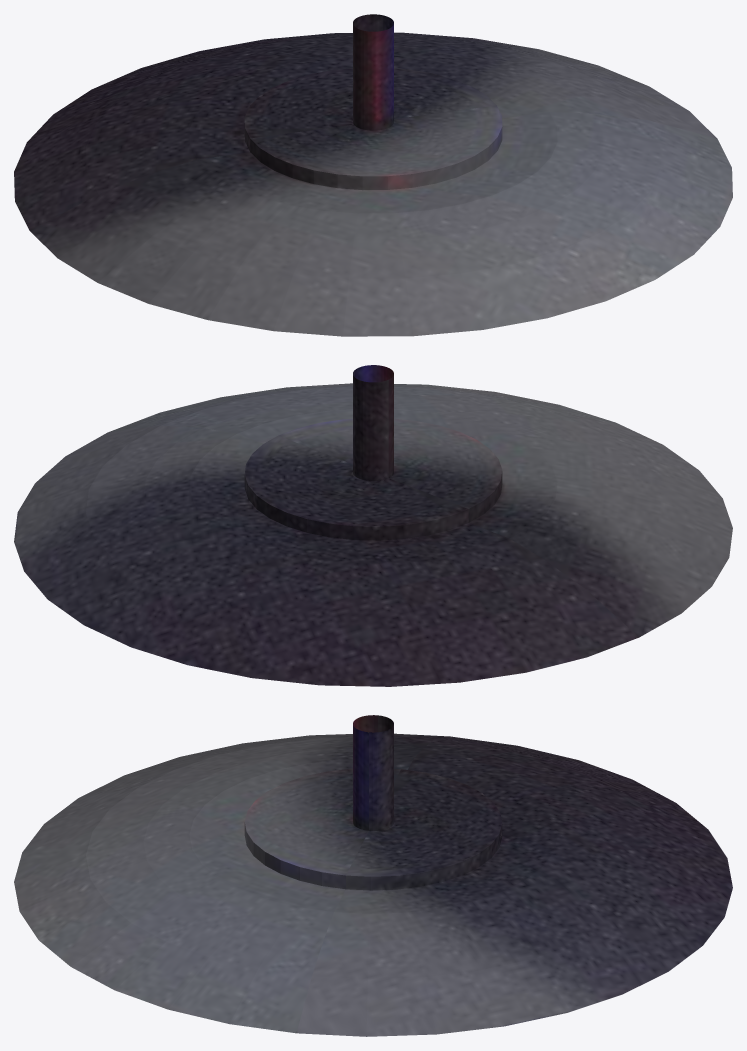
The model's file is world_map_basement_metal.glb.
The picture shows the model from 3 angles, top to bottom: view 1: azimuth 30°, elevation 25°; view 2: azimuth 150°, elevation 25°; view 3: azimuth 270°, elevation 25°; orthographic projection.
Visible parts, largest first — view 1: world_map_basement_metal; view 2: world_map_basement_metal; view 3: world_map_basement_metal.
Boxes of the visible parts, x1,y1,x2,y2 form: world_map_basement_metal: [14, 14, 732, 336]; world_map_basement_metal: [14, 365, 732, 686]; world_map_basement_metal: [14, 715, 732, 1036].
Bounding box in the file's own units: 1.19 × 0.2947 × 1.19.
1 material, 1 textured.
